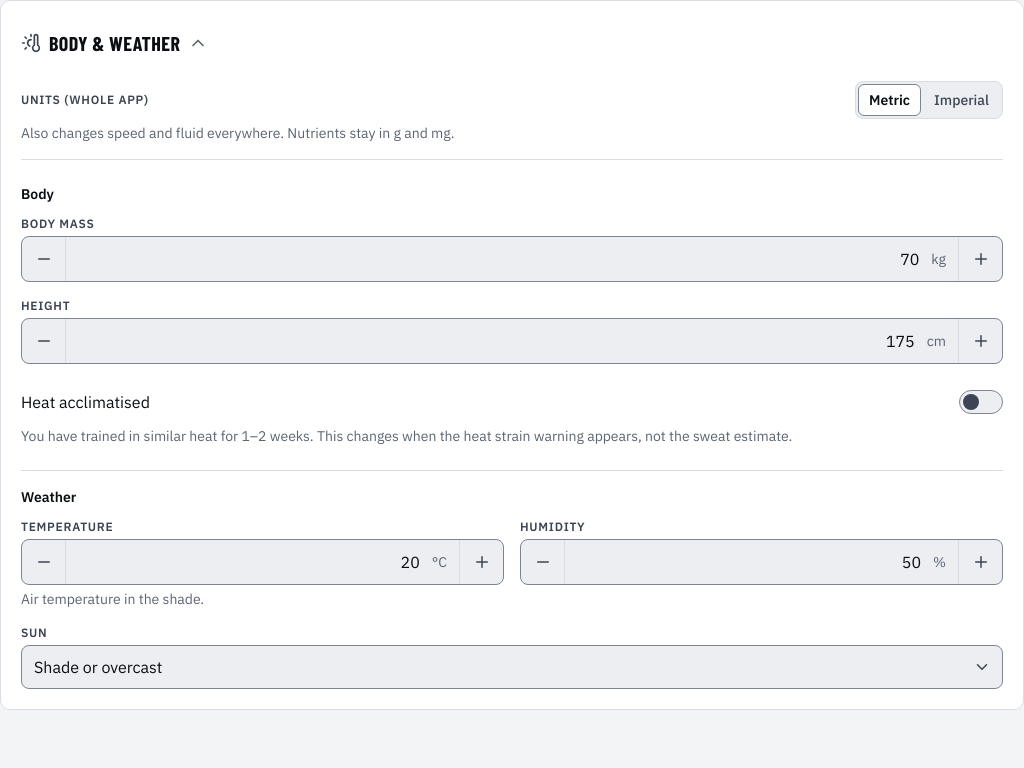
Test: BodyWeatherSection: body › shows body mass in lb but stores kg, through the unit switch
Click the radio button labelled "Imperial". click: (962, 100)
box: [923,84,1000,116]
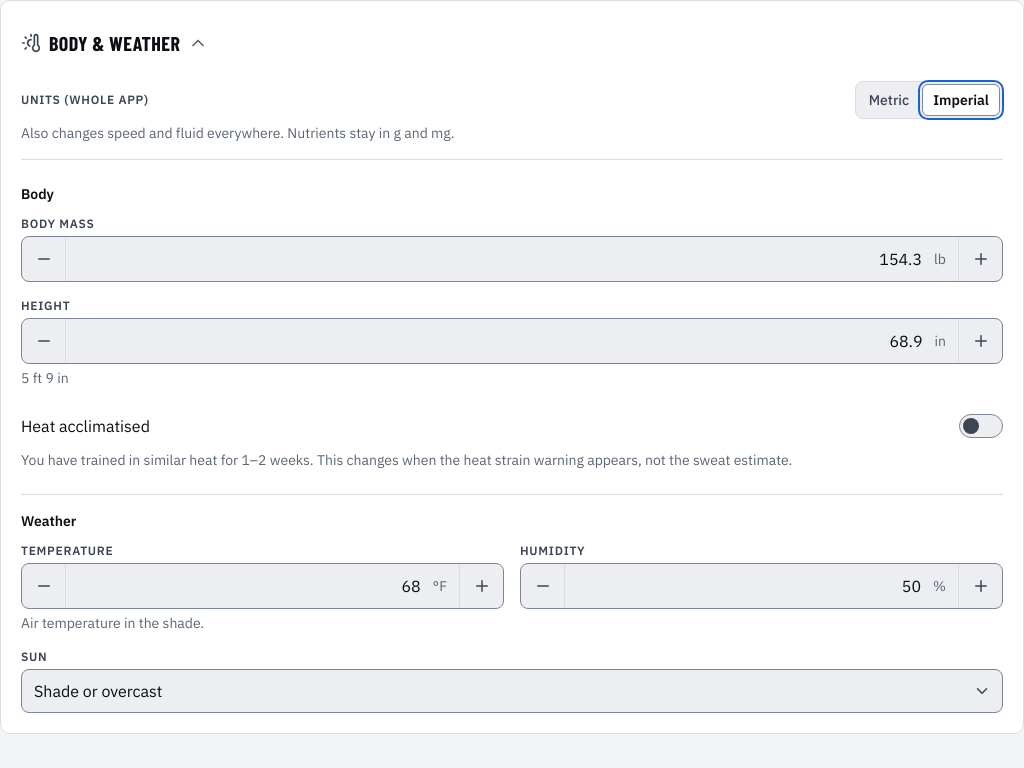
expect the number field labelled "Body mass" holds "154.3": met
Replace the text in the number field labelled "Body mass" with "176". click: (500, 259)
box: [66,237,934,281]
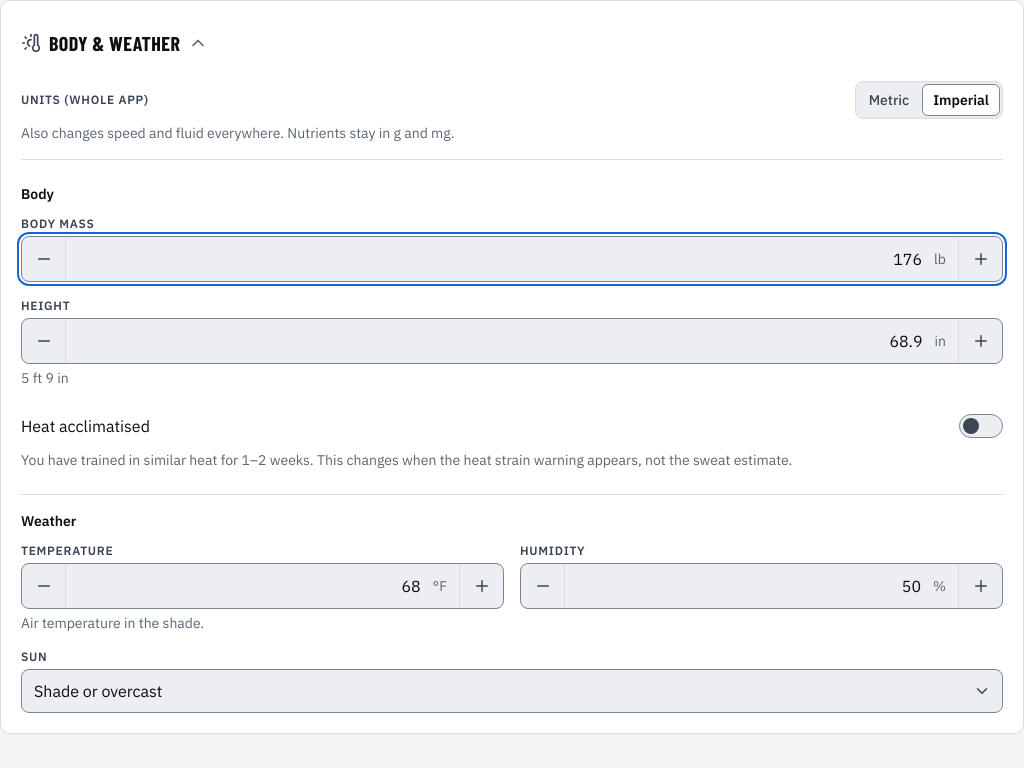
Press Tab
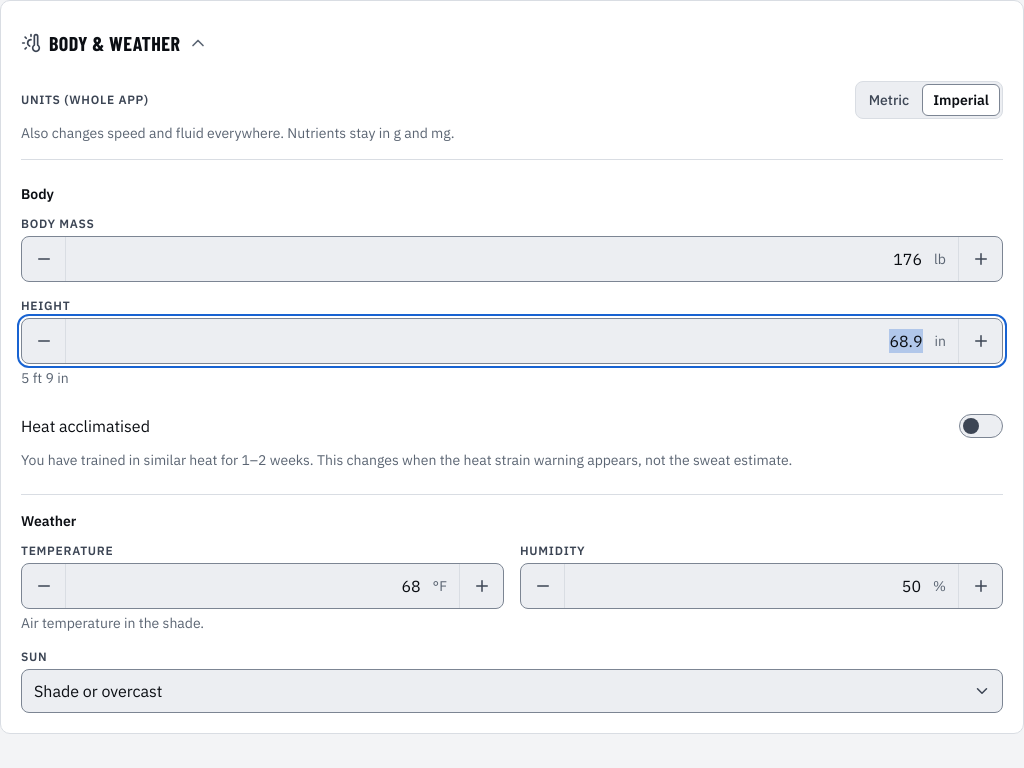
Click the radio button labelled "Metric". click: (889, 100)
box: [858,84,920,116]
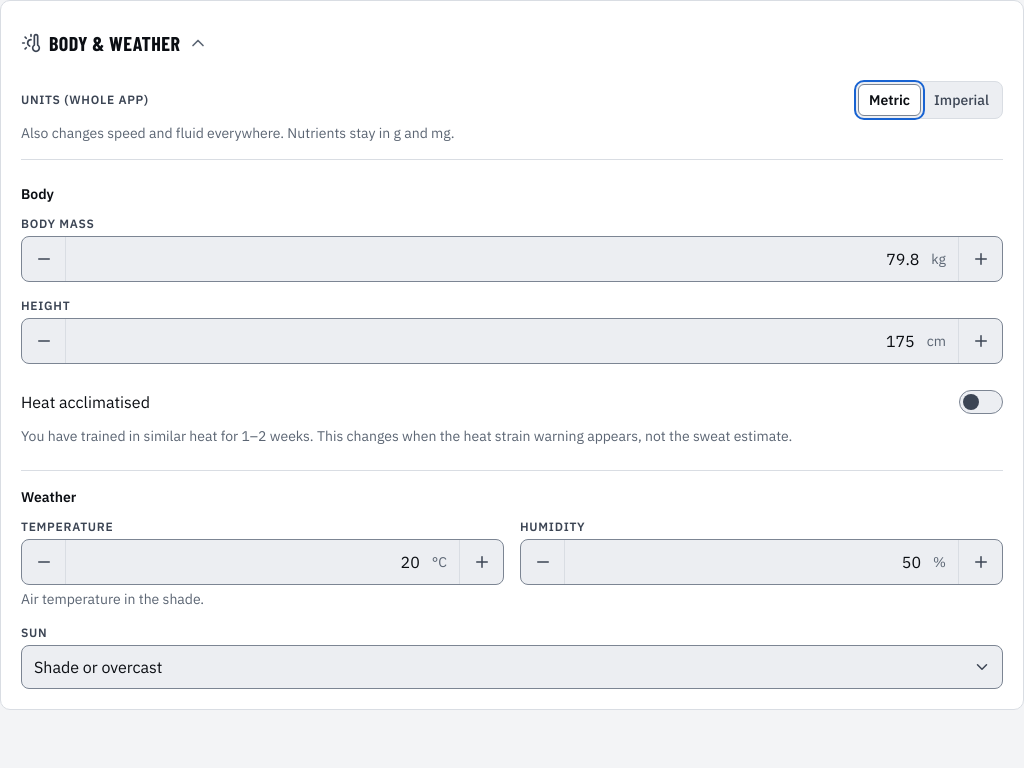
expect the number field labelled "Body mass" holds "79.8": met, box [66,237,931,281]
